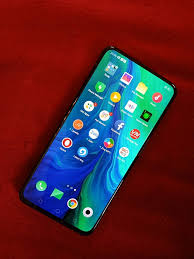oppo: (18, 47, 174, 234)
